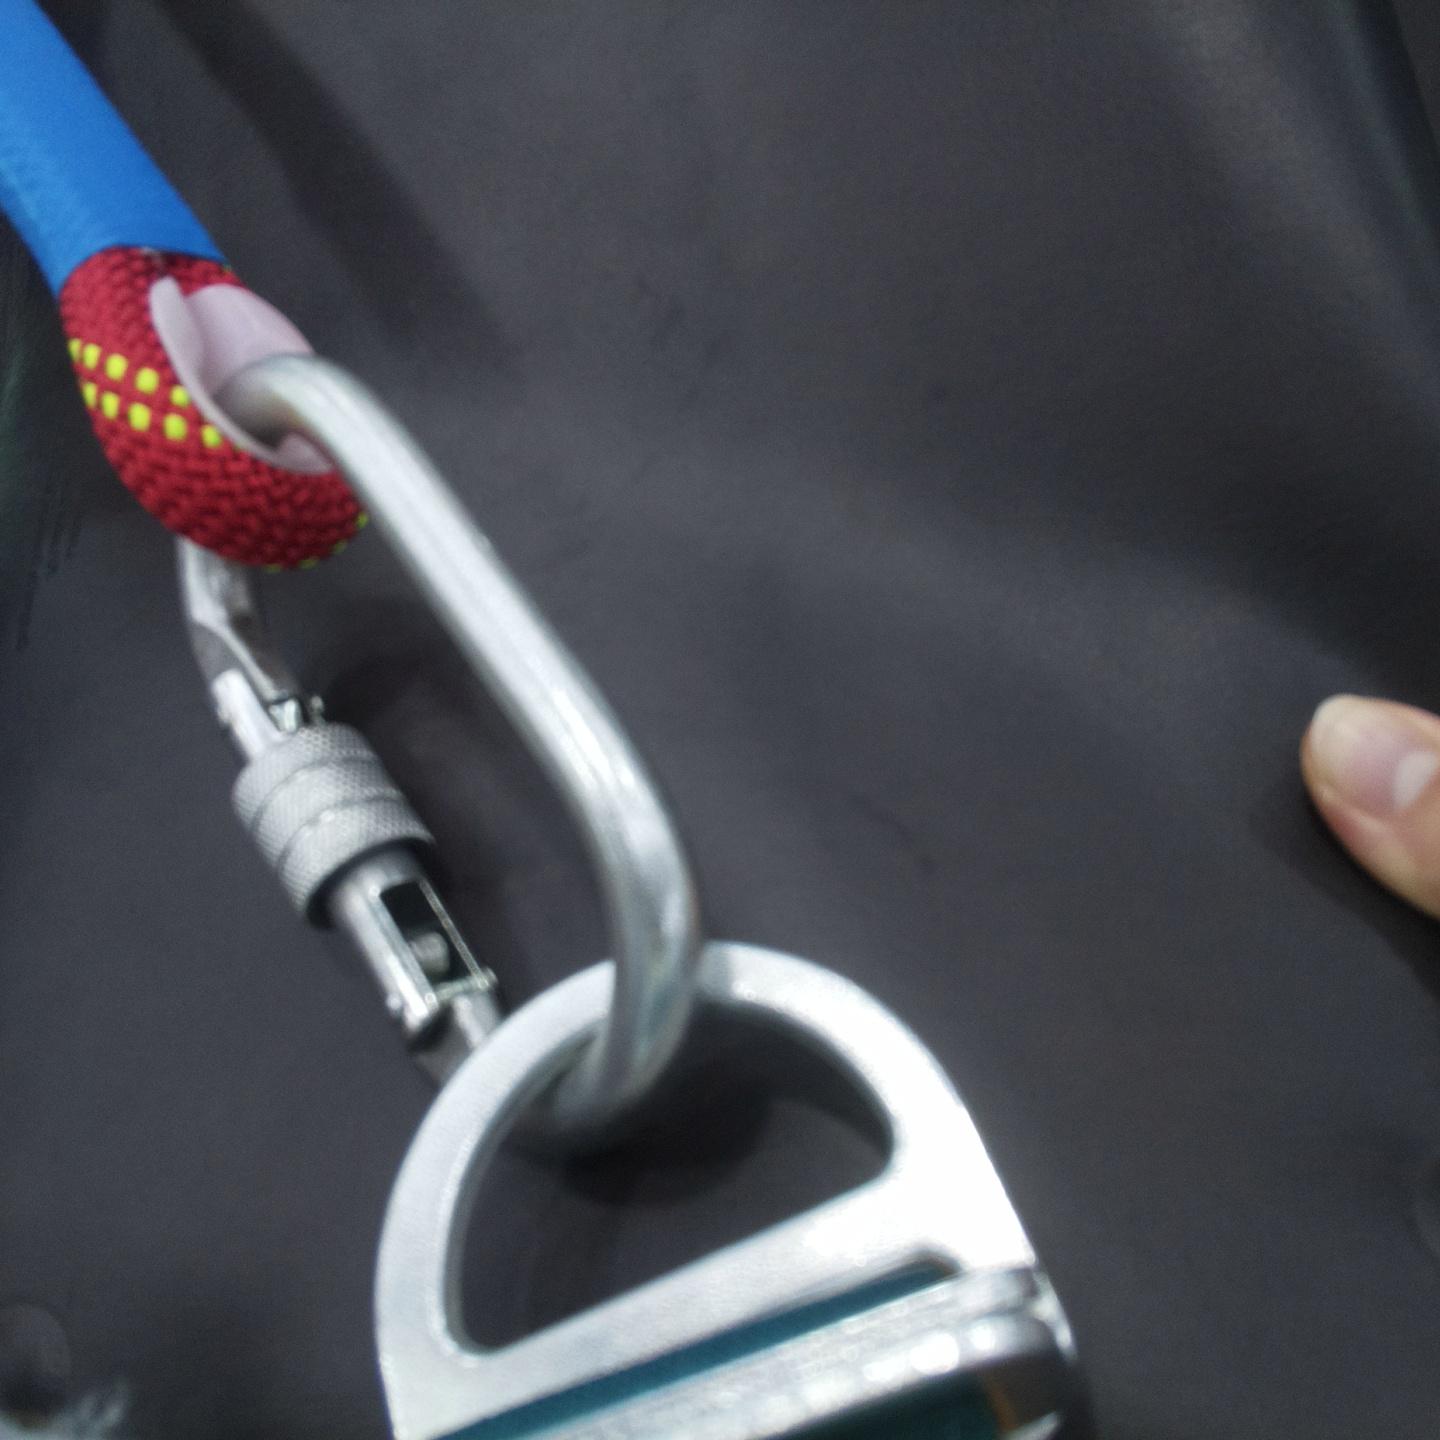SUCCESS: (138, 665, 1051, 1385)
